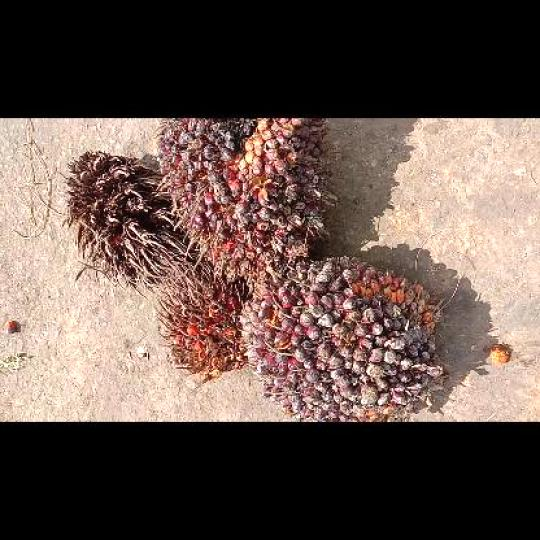kurang masak: (240, 256, 451, 422)
masak: (152, 119, 341, 283)
terlalu masak: (152, 266, 253, 383)
